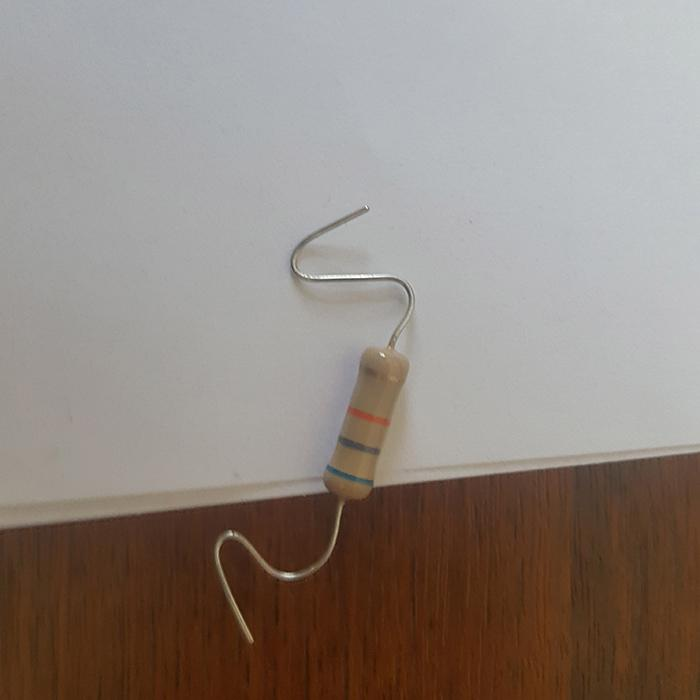resistor: (323, 346, 409, 498)
